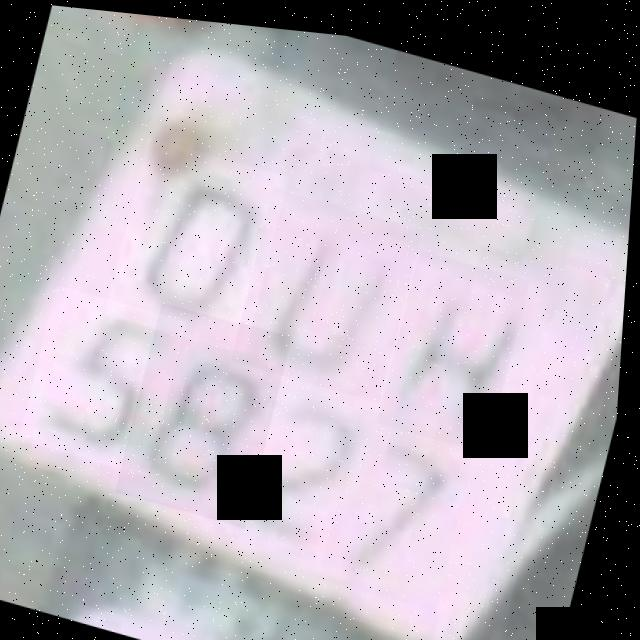2: (218, 353, 393, 567)
5: (23, 280, 192, 474)
7: (325, 397, 484, 603)
B: (120, 295, 296, 524), (380, 238, 533, 447)
O: (107, 131, 292, 351)
U: (233, 179, 426, 398)
